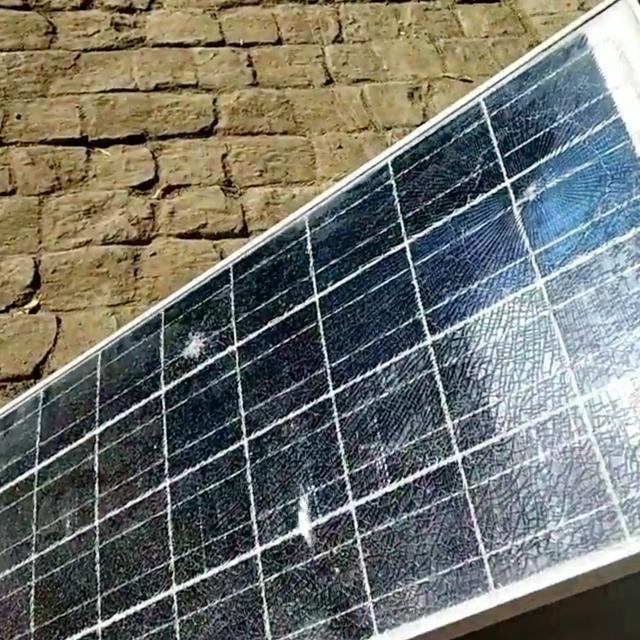Anomaly Solar Panel: (1, 32, 640, 639)
Structural Damage: (472, 236, 640, 520), (481, 156, 585, 226), (280, 467, 329, 557), (177, 327, 211, 364)
